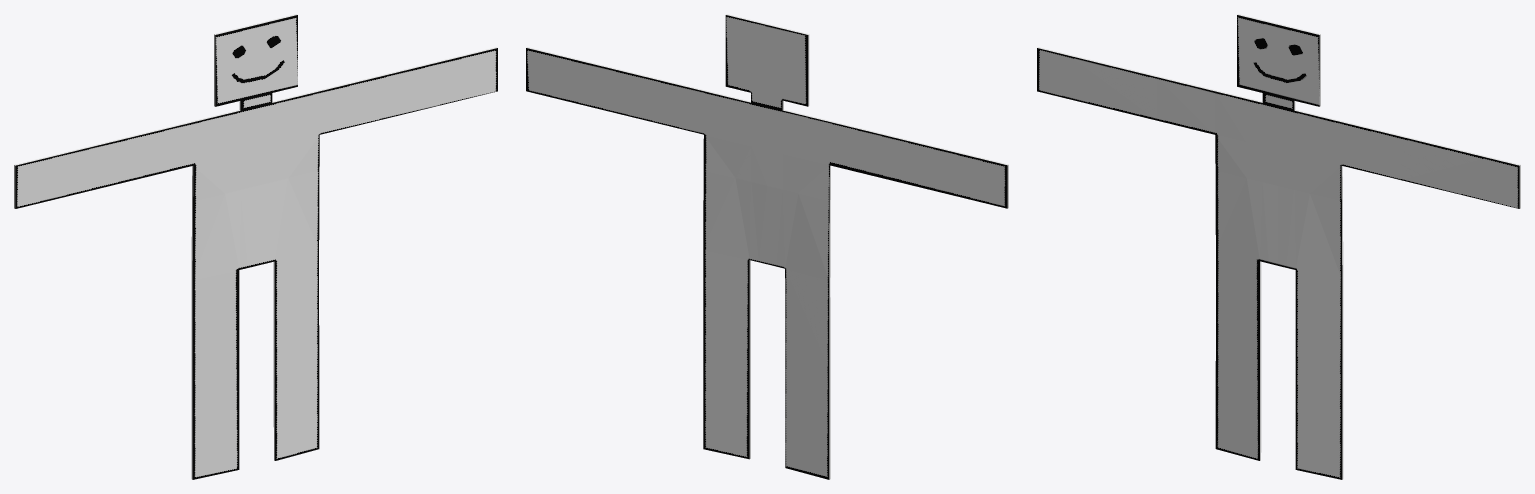
File: player.obj
The picture shows the model from 3 angles, left to right: view 1: azimuth 30°, elevation 25°; view 2: azimuth 150°, elevation 25°; view 3: azimuth 330°, elevation 25°; orthographic projection.
Visible parts, largest first — view 1: Cube; view 2: Cube; view 3: Cube.
Part boxes in pixels (left/top/right/bottom): Cube: left=14, top=14, right=497, bottom=479; Cube: left=526, top=14, right=1008, bottom=479; Cube: left=1037, top=14, right=1520, bottom=479.
Bounding box in the file's own units: 8.5 × 7.41 × 0.0766.
Materials: 1 (1 with a texture image).
